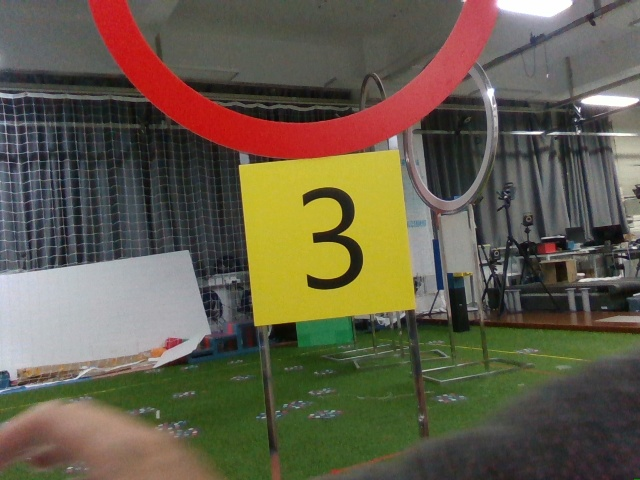target: (254, 160, 410, 310)
